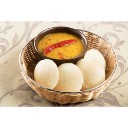idly: (57, 62, 82, 91), (78, 60, 105, 86), (35, 60, 58, 89), (86, 48, 103, 61)
